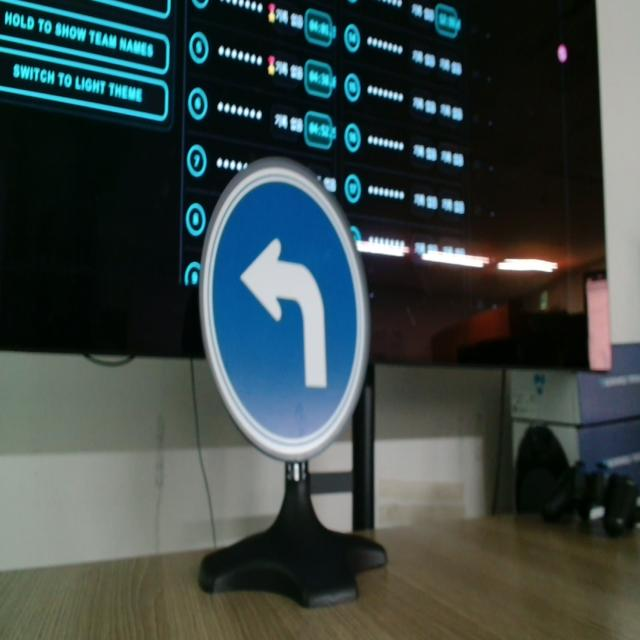left_direction: (194, 138, 403, 498)
